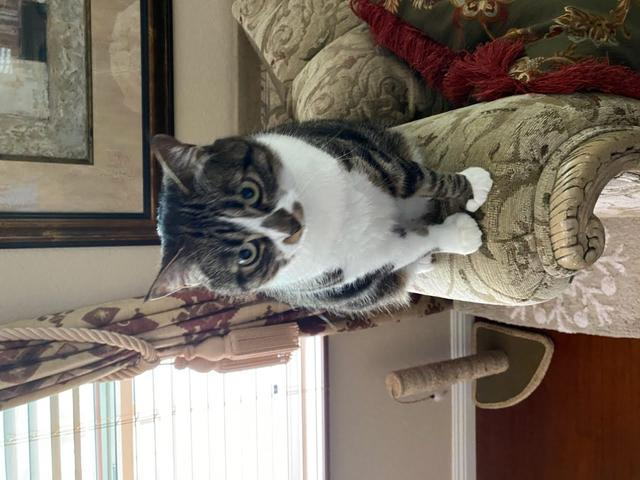playdoh: (147, 120, 494, 315)
